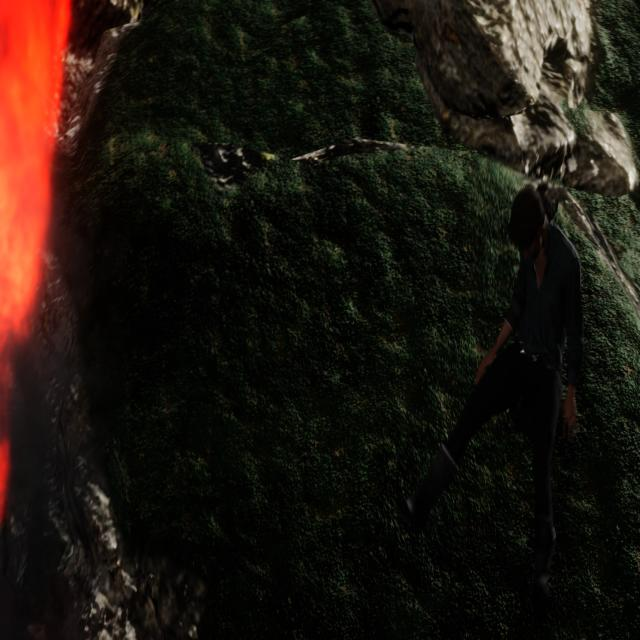Human: (399, 170, 592, 616)
